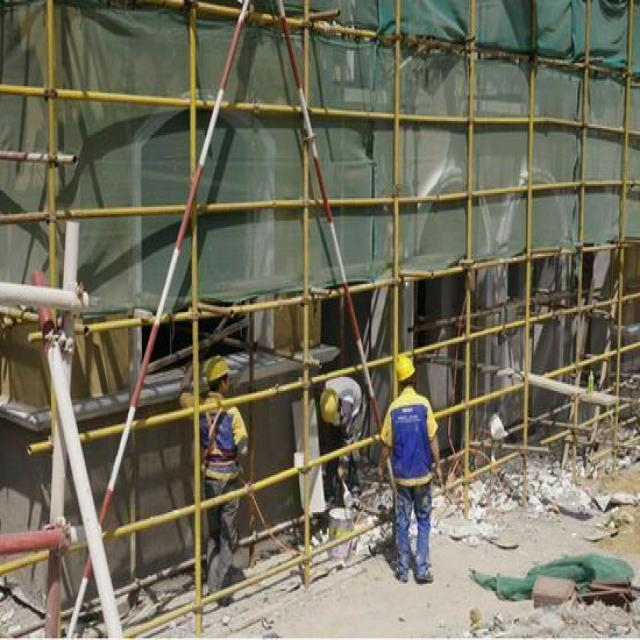hand_noglove: (372, 459, 386, 484), (434, 461, 445, 486)
head_helmet: (204, 351, 232, 382), (321, 389, 340, 428), (393, 354, 417, 382)
person: (181, 351, 248, 605), (388, 353, 438, 582), (319, 374, 364, 508)
shoes: (416, 564, 436, 586), (394, 566, 410, 586)
